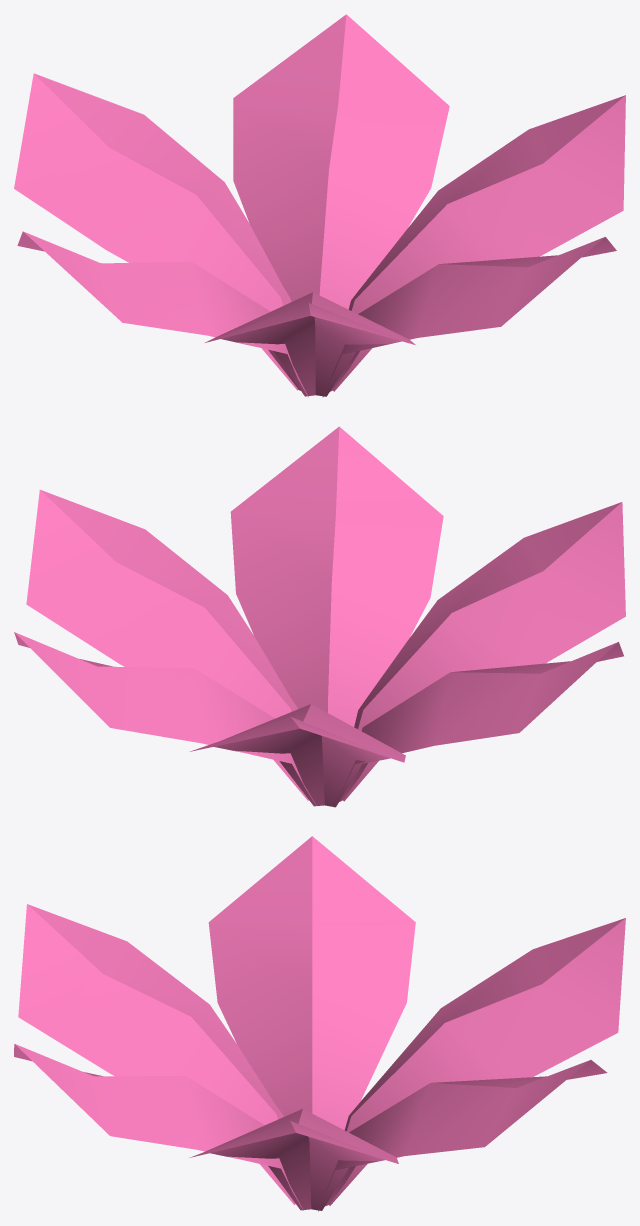
Rendered from Bush_4.fbx.
The picture shows the model from 3 angles, top to bottom: view 1: azimuth 30°, elevation 25°; view 2: azimuth 150°, elevation 25°; view 3: azimuth 270°, elevation 25°; orthographic projection.
Parts seen in each view (by area): view 1: Plane; view 2: Plane; view 3: Plane.
Part boxes in pixels (x1,y1,x2,y2): Plane: (14, 14, 625, 397); Plane: (14, 426, 625, 807); Plane: (14, 836, 625, 1211).
Bounding box in the file's own units: 148 × 55.01 × 134.
